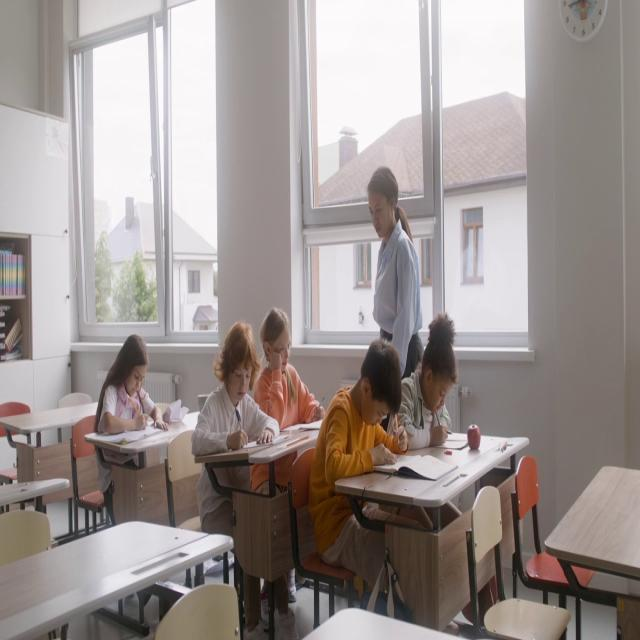reading: (253, 307, 322, 474)
writing: (311, 339, 428, 616), (192, 323, 284, 639), (94, 334, 168, 467), (397, 313, 459, 448)
